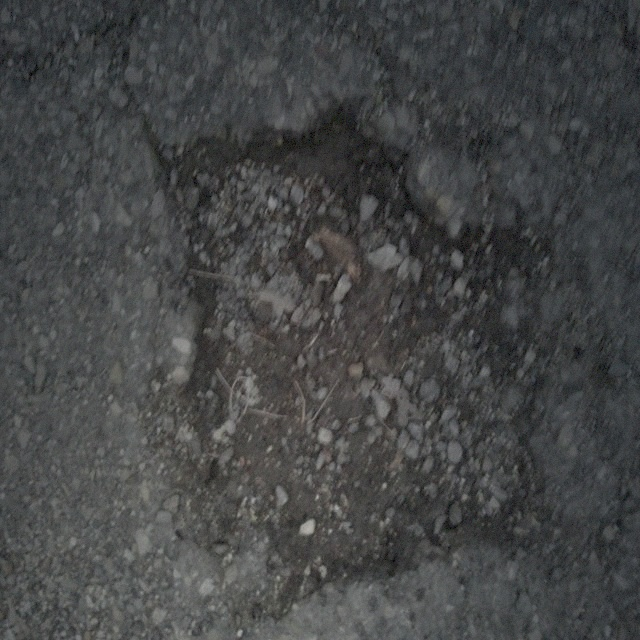pothole: (133, 111, 549, 593)
